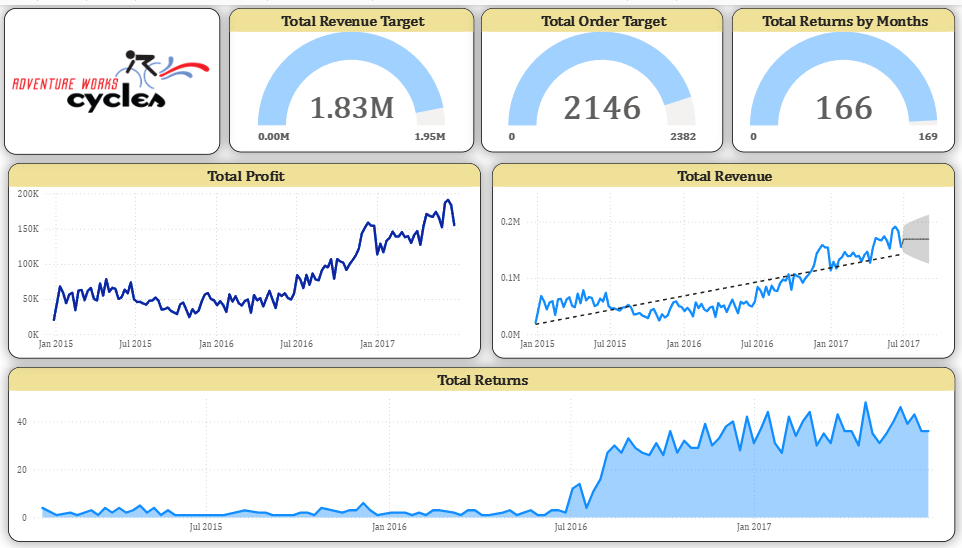

The page's visual inventory and layout, read from the dashboard file:
{"tool":"powerbi","page":{"name":"Product details","canvas":[1280,720],"ordinal":1},"visuals":[{"type":"lineChart","title":"Total Revenue","fields":{"Category":["AW_calender.Start of Week"],"Y":["AW_sales_15-17.total profit"]},"box":[653.8,207.4,606.2,256.3],"z":0},{"type":"gauge","title":"Total Revenue Target","fields":{"Y":["AW_sales_15-17.Total revenue"],"MaxValue":["AW_sales_15-17.revenue target"]},"box":[312.5,4.3,315.4,188.6],"z":1000},{"type":"areaChart","title":"Total Returns","fields":{"Y":["AW_Returns.total returns"],"Category":["AW_calender.Start of Week"]},"box":[20.2,473.8,1239.8,229],"z":2000},{"type":"gauge","title":"Total Order Target","fields":{"Y":["AW_sales_15-17.total orders"],"MaxValue":["AW_sales_15-17.orders target"]},"box":[639.4,4.3,316.8,188.6],"z":3000},{"type":"gauge","title":"Total Returns by Months","fields":{"MaxValue":["AW_Returns.Prev month returns"],"Y":["AW_Returns.total returns"]},"box":[967.7,4.3,292.3,188.6],"z":4000},{"type":"lineChart","title":"Total Profit","fields":{"Y":["AW_sales_15-17.total profit","AW_sales_15-17.adjusted profit"],"Category":["AW_calender.Start of Week.Variation.Date Hierarchy.Year","AW_calender.Start of Week.Variation.Date Hierarchy.Quarter","AW_calender.Start of Week.Variation.Date Hierarchy.Month","AW_calender.Start of Week.Variation.Date Hierarchy.Day"]},"box":[20.2,207.4,619.2,256.3],"z":7000},{"type":"image","box":[14.8,3.7,283.1,192],"z":8000}]}

Visuals, with their boxes in screenshot pixels (x1, y1, x2, y2), scaled from the page's 1280x720 canvas onto the 962x548 screenshot:
"Total Revenue" lineChart: [x1=491, y1=158, x2=947, y2=353]
"Total Revenue Target" gauge: [x1=235, y1=3, x2=472, y2=147]
"Total Returns" areaChart: [x1=15, y1=361, x2=947, y2=535]
"Total Order Target" gauge: [x1=481, y1=3, x2=719, y2=147]
"Total Returns by Months" gauge: [x1=727, y1=3, x2=947, y2=147]
"Total Profit" lineChart: [x1=15, y1=158, x2=481, y2=353]
image: [x1=11, y1=3, x2=224, y2=149]
